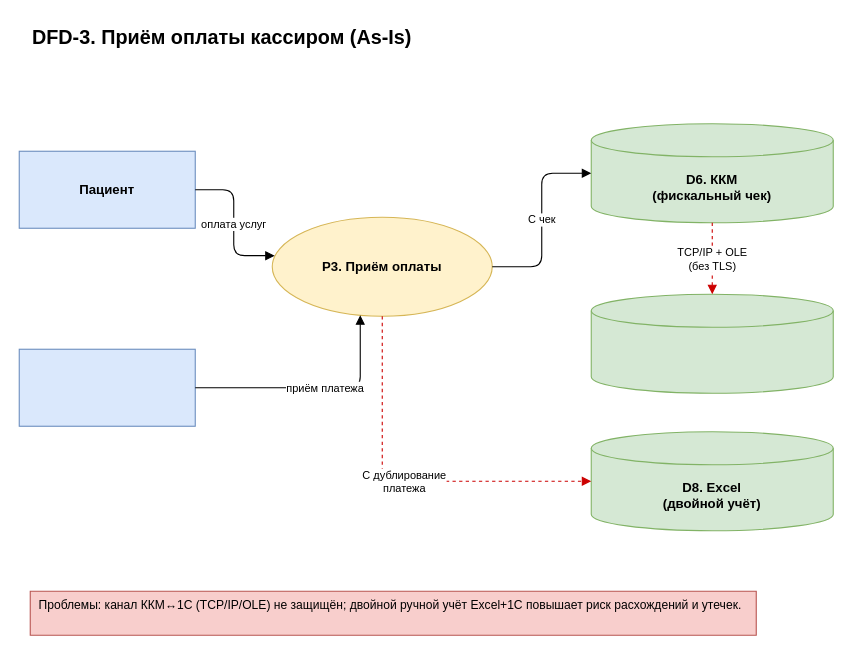
Image size: 853x655. Some labels were removed from this diagram. Each missing label, with the centre of its shape:
"D7. 1С:Бухгалтерия (файловый режим)" goes at (x=711, y=343).
"Кассир" goes at (x=106, y=387).
